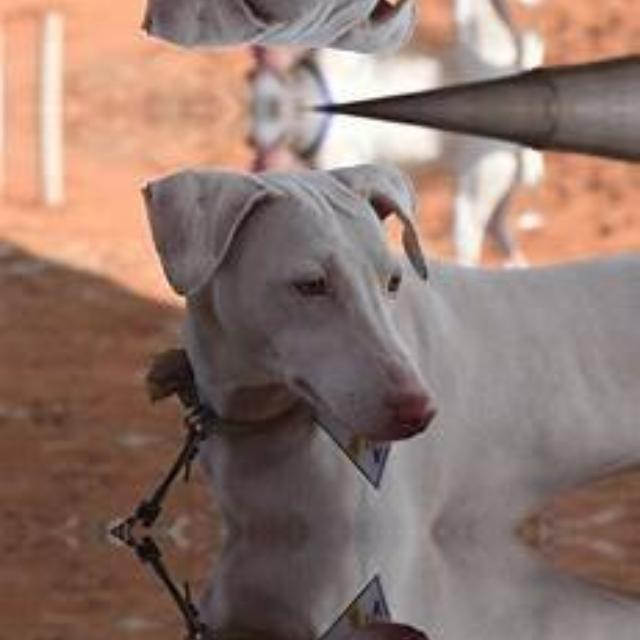dog: (132, 140, 550, 532), (131, 532, 550, 640), (131, 0, 550, 75)
